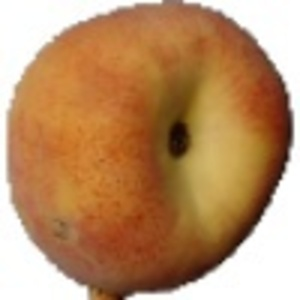pêssego: (3, 1, 300, 300)
